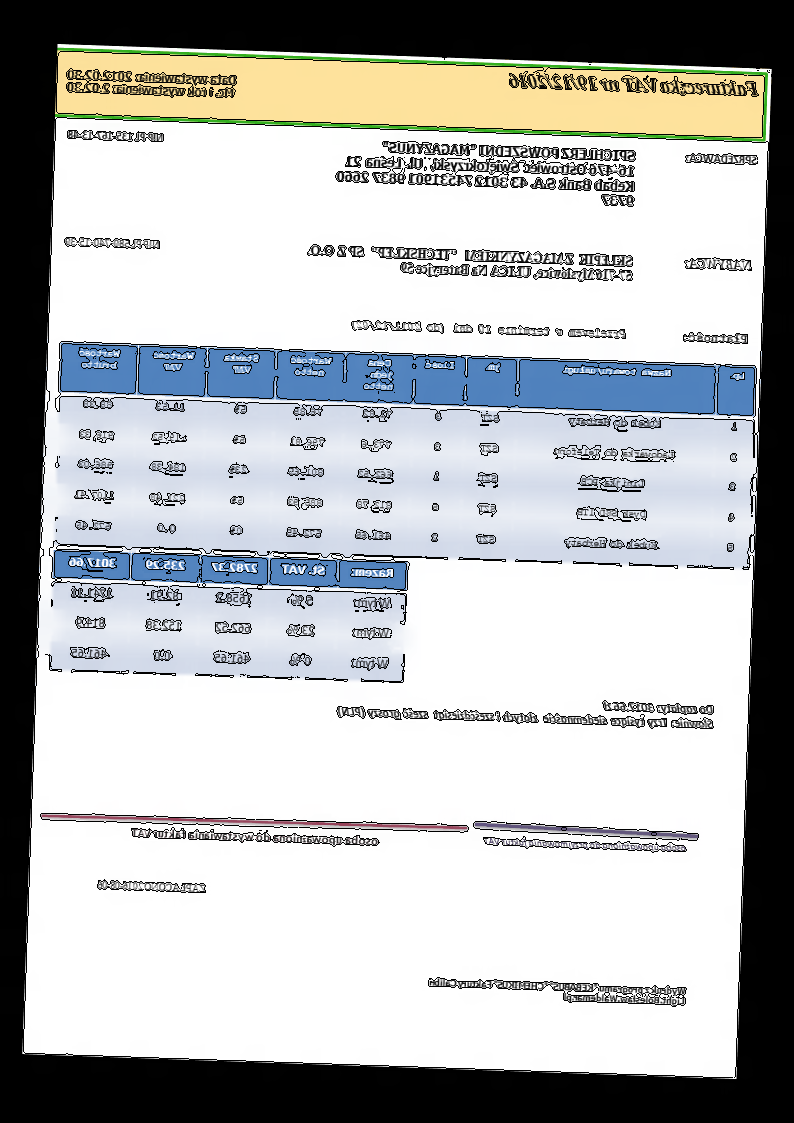Table: (52, 339, 758, 572), (48, 549, 409, 684)
TextBox: (333, 137, 638, 208), (336, 689, 716, 733), (306, 242, 635, 285), (426, 975, 688, 1007), (506, 70, 761, 101), (350, 315, 629, 343), (131, 825, 381, 850), (65, 66, 238, 100), (482, 834, 689, 857), (95, 877, 209, 896), (63, 234, 162, 253), (64, 126, 165, 144), (683, 253, 755, 274), (686, 150, 759, 168), (679, 329, 750, 346)
